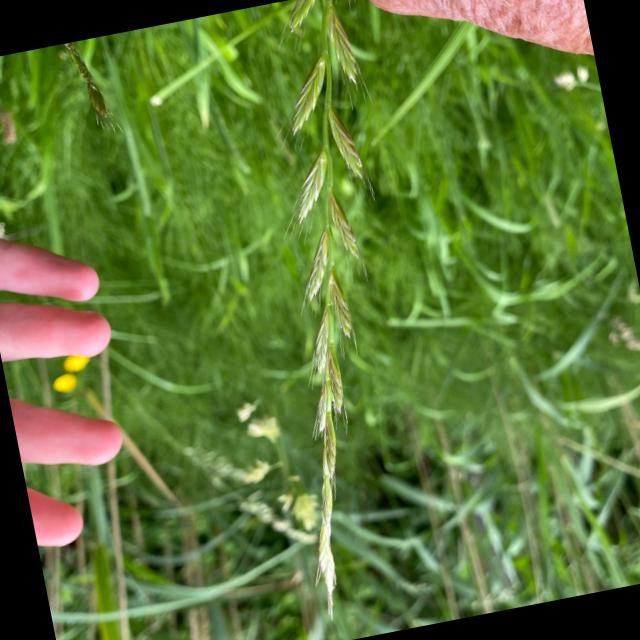Lolium: (199, 0, 474, 625)
